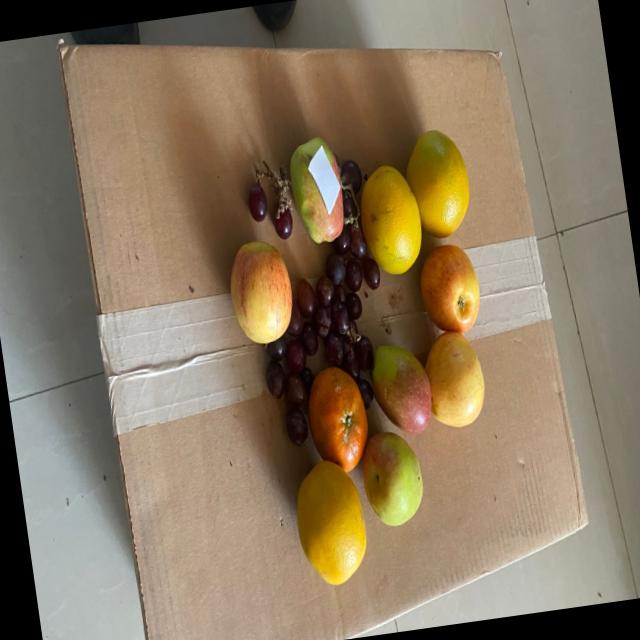hoja: (304, 134, 344, 208)
